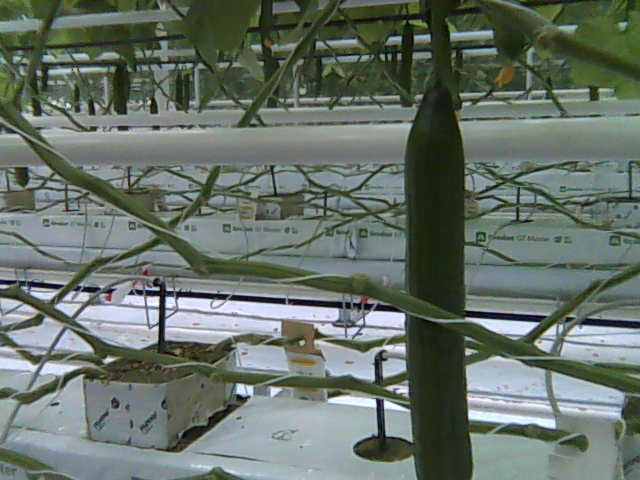concombre: (404, 85, 474, 480)
